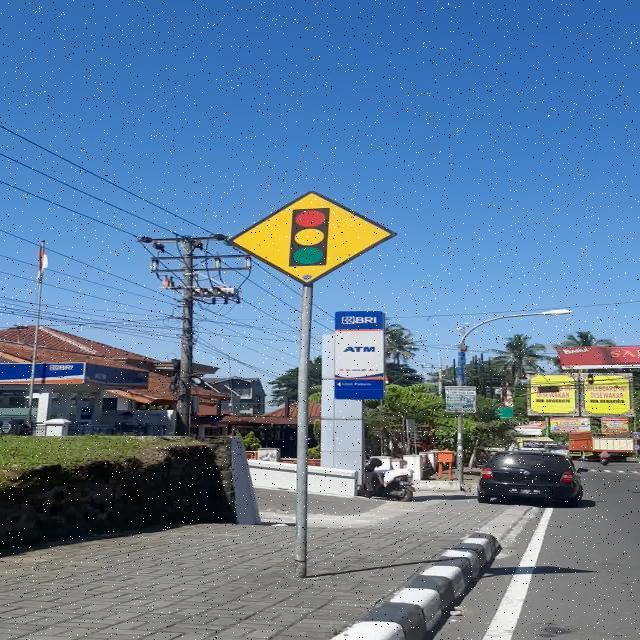Lampu Lalu Lintas: (226, 191, 398, 285)
